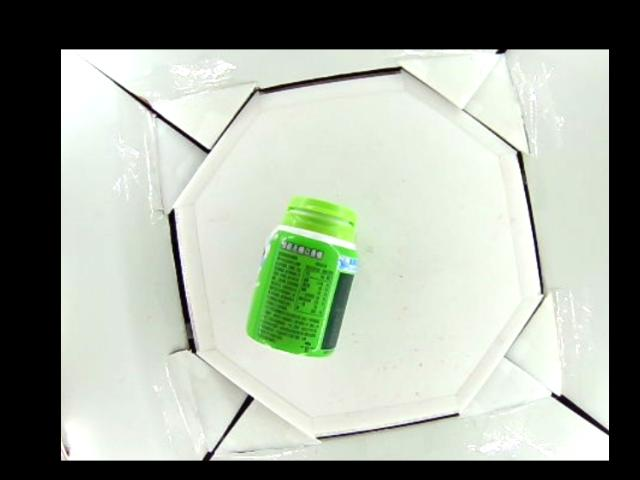Bottle: (245, 199, 358, 358)
